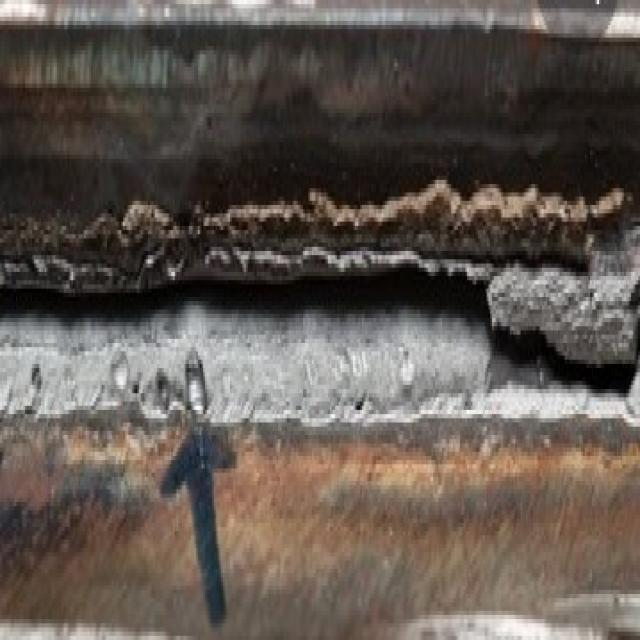Bad Weld: (1, 163, 638, 402)
